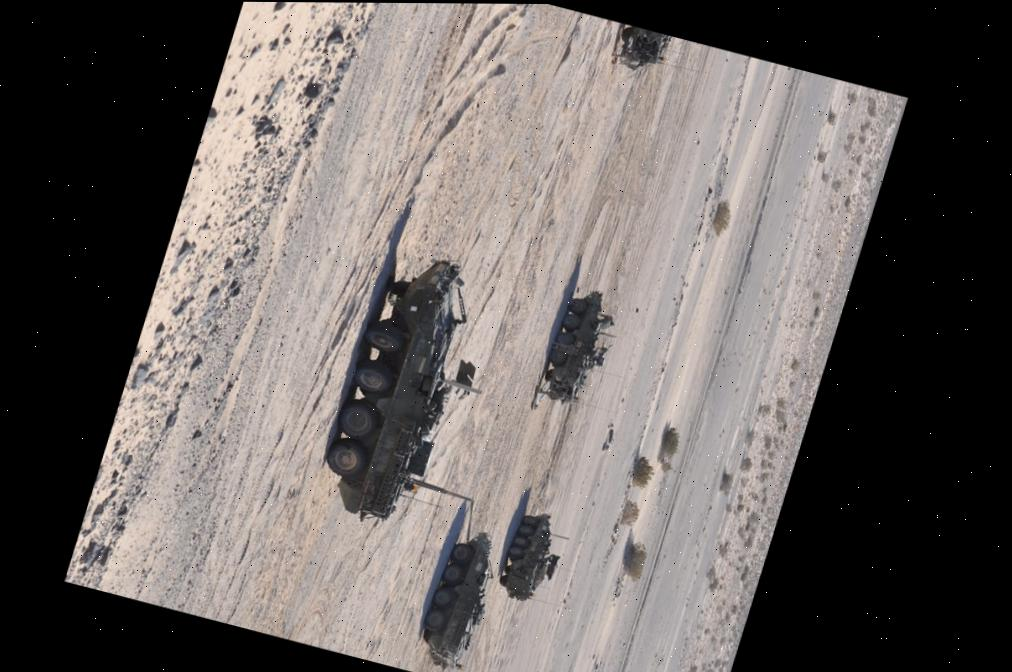armored_car: (306, 244, 520, 541), (519, 275, 628, 417), (411, 523, 509, 672), (494, 507, 575, 609), (605, 23, 691, 82)
